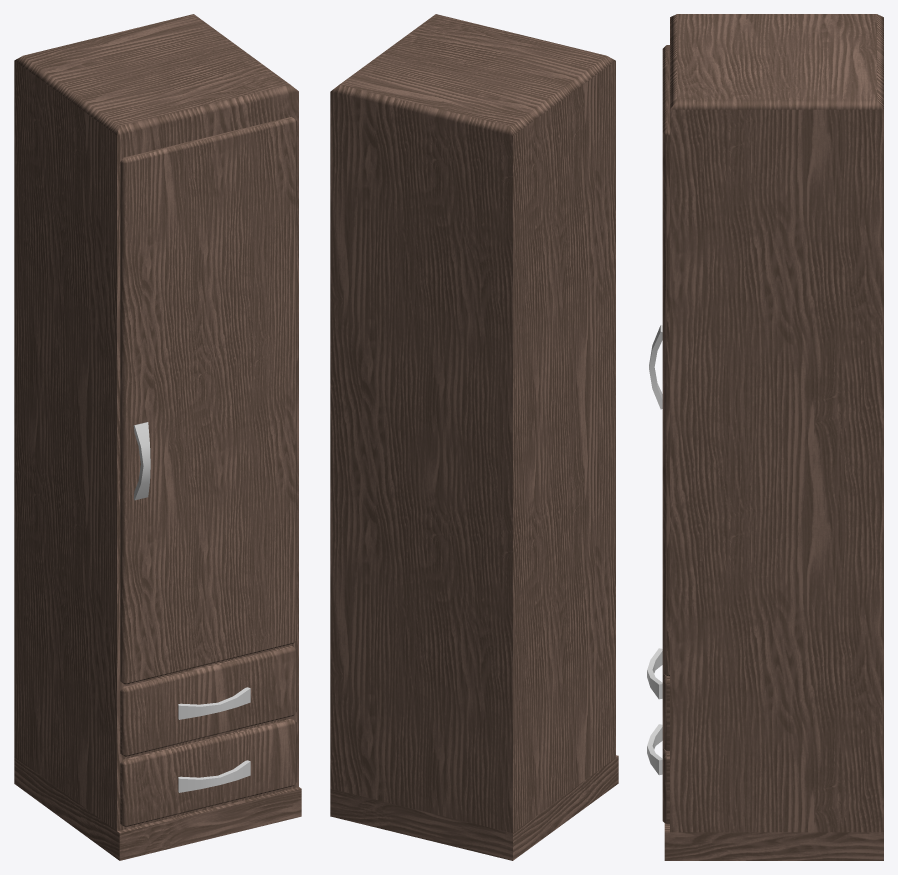
File: cupboard_006.fbx
The picture shows the model from 3 angles, left to right: view 1: azimuth 30°, elevation 25°; view 2: azimuth 150°, elevation 25°; view 3: azimuth 270°, elevation 25°; orthographic projection. The views are drawn at different scales.
Parts seen in each view (by area): view 1: cupboard_006; view 2: cupboard_006; view 3: cupboard_006.
Part boxes in pixels (box(x1,y1,x2,y2)): cupboard_006: box(14, 14, 301, 860); cupboard_006: box(330, 14, 618, 860); cupboard_006: box(647, 14, 883, 860).
Size of the model in its own units: 73.22 by 79.37 by 280.
